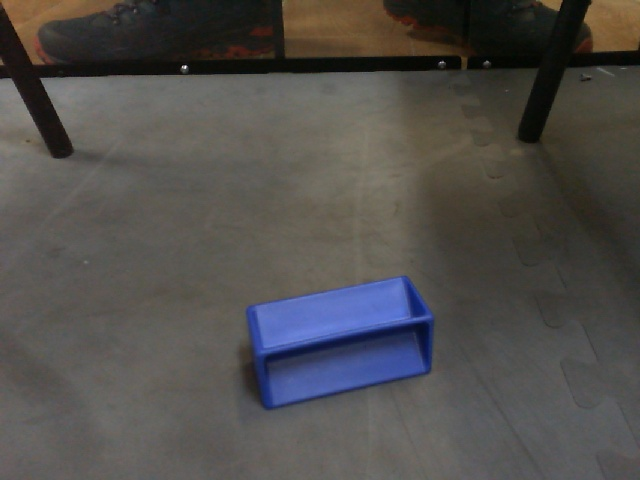BlueSample: (242, 274, 439, 410)
